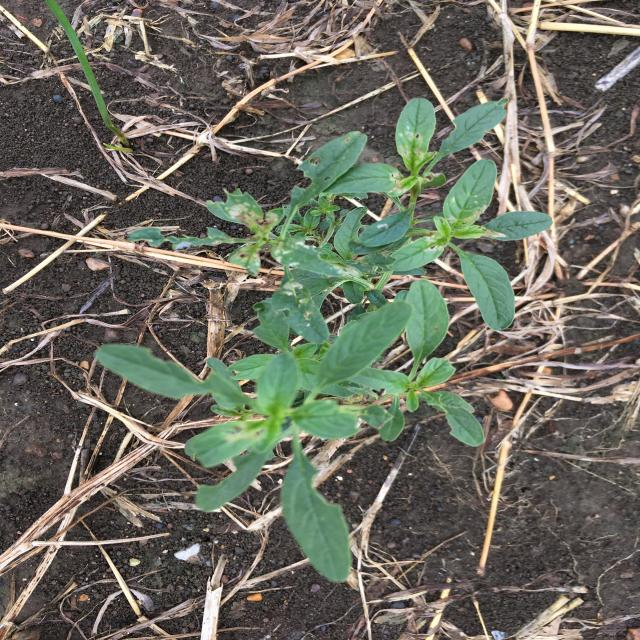Waterhemp: (94, 95, 554, 583)
